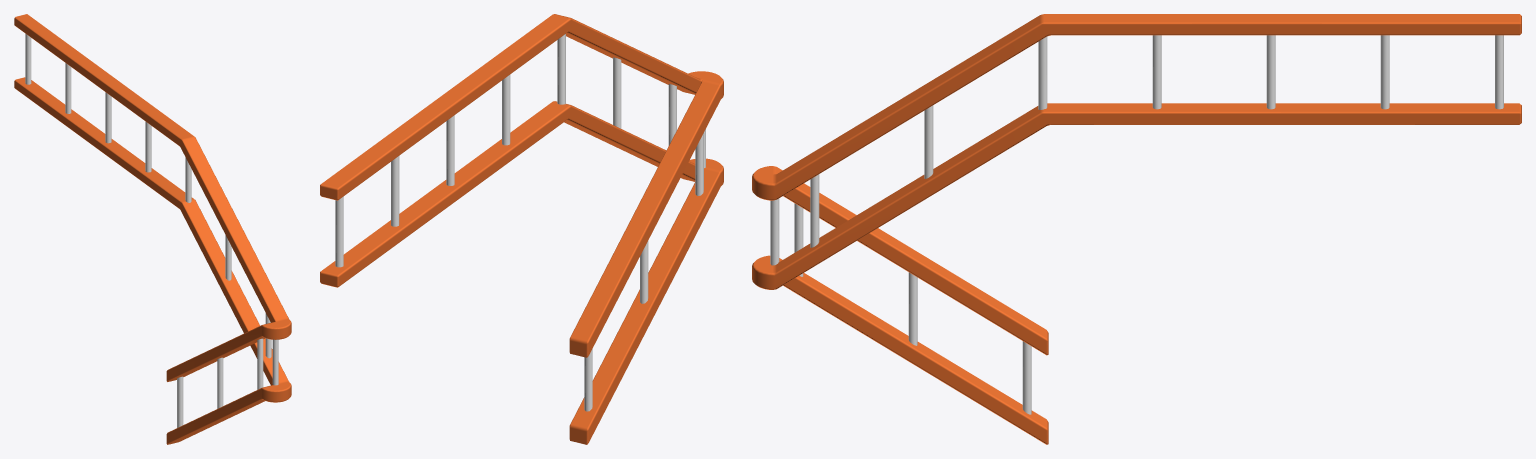
The model's file is Railing1.fbx.
3 renders of one model, left to right at view 1: azimuth 30°, elevation 25°; view 2: azimuth 150°, elevation 25°; view 3: azimuth 270°, elevation 25°, orthographic. The views are drawn at different scales.
Parts seen in each view (by area): view 1: Plane.001; view 2: Plane.001; view 3: Plane.001.
Boxes of the visible parts, bbox=[...] form: Plane.001: bbox=[14, 14, 291, 444]; Plane.001: bbox=[320, 14, 723, 444]; Plane.001: bbox=[752, 14, 1521, 444].
Size of the model in its own units: 40 by 418 by 675.
